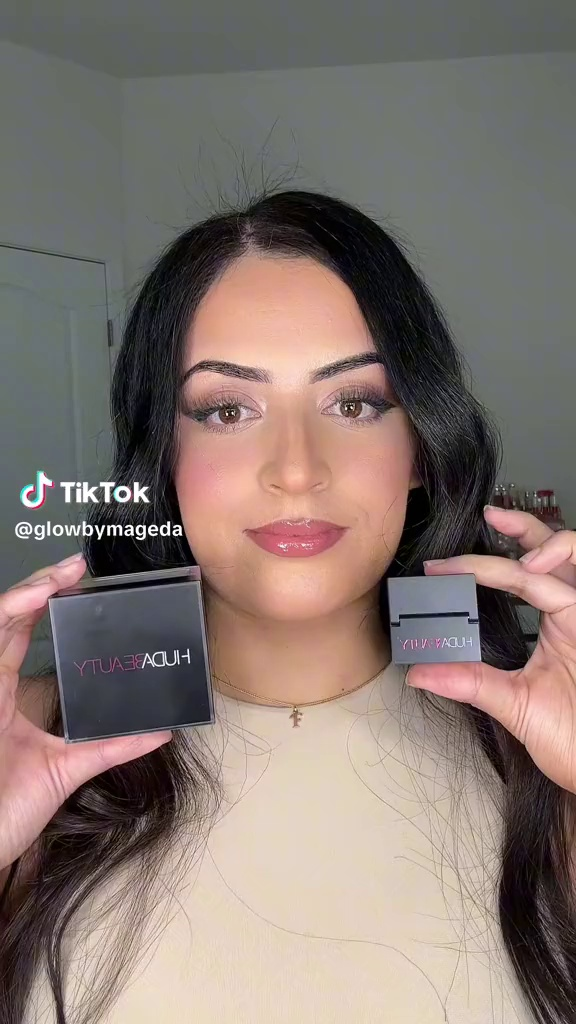train' :'yolo_data/train/images',: (36, 560, 224, 753), (378, 568, 487, 674)
